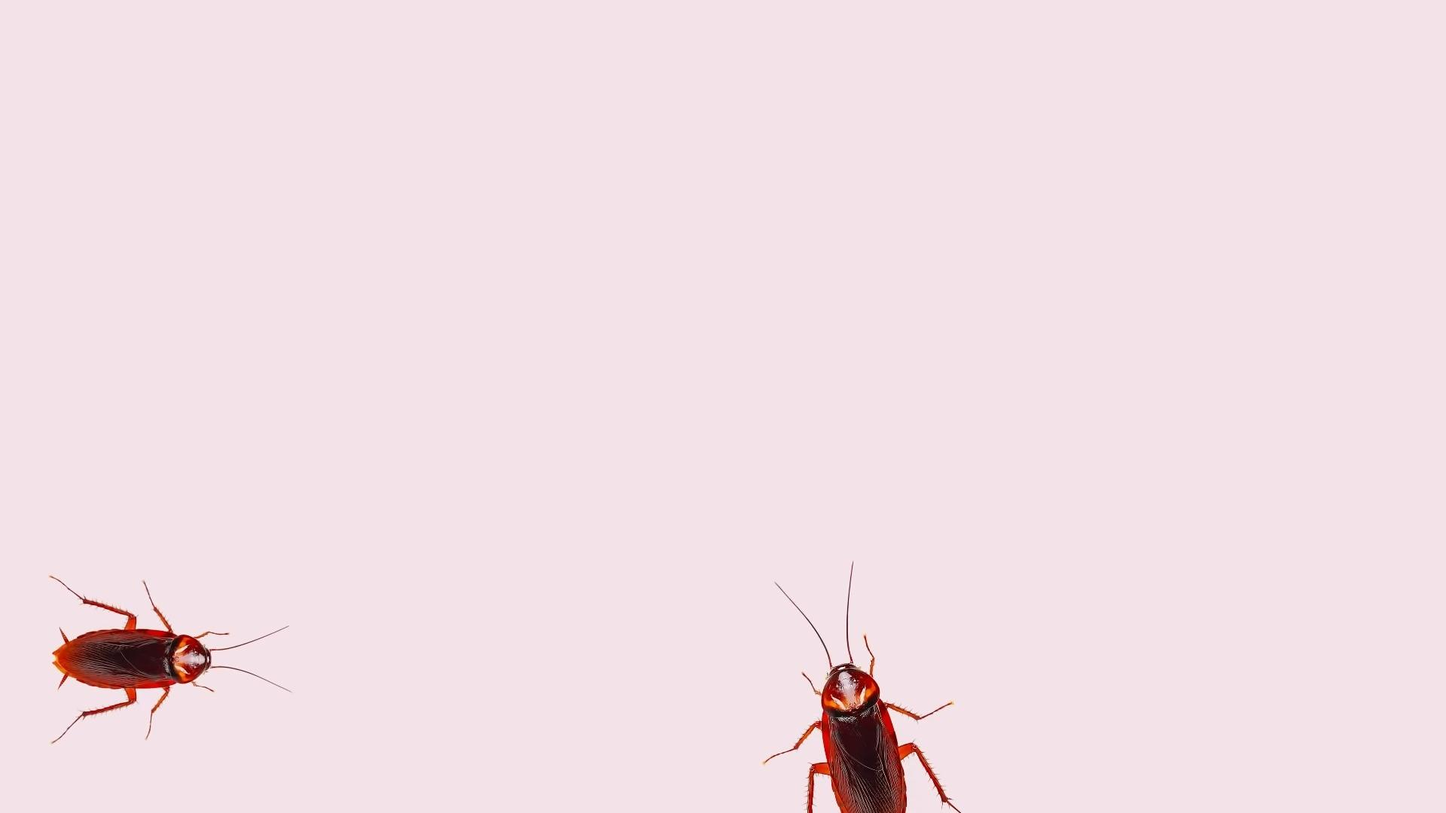cockroach: (763, 565, 956, 813), (42, 563, 283, 735)
